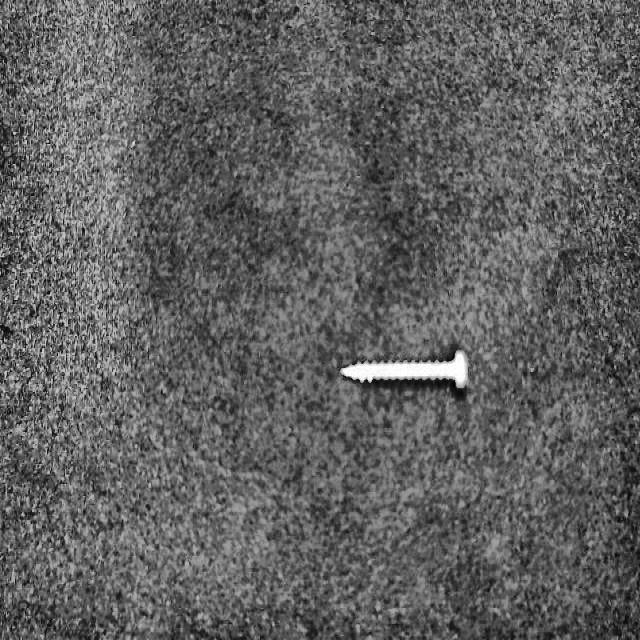Sheet metal screw: (339, 350, 467, 390)
